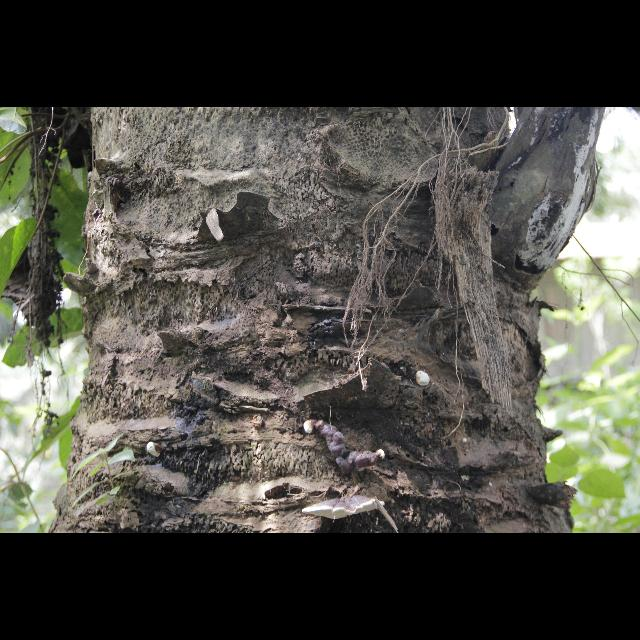ganoderma: (318, 422, 377, 477), (303, 495, 386, 521)
primordium: (148, 443, 164, 459), (417, 372, 432, 388), (305, 421, 318, 436), (378, 450, 387, 462), (464, 439, 469, 445)
